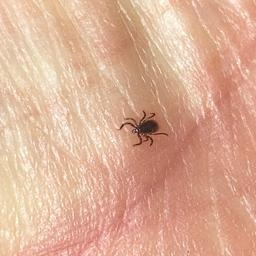Ixodes scapularis: (118, 110, 168, 147)
